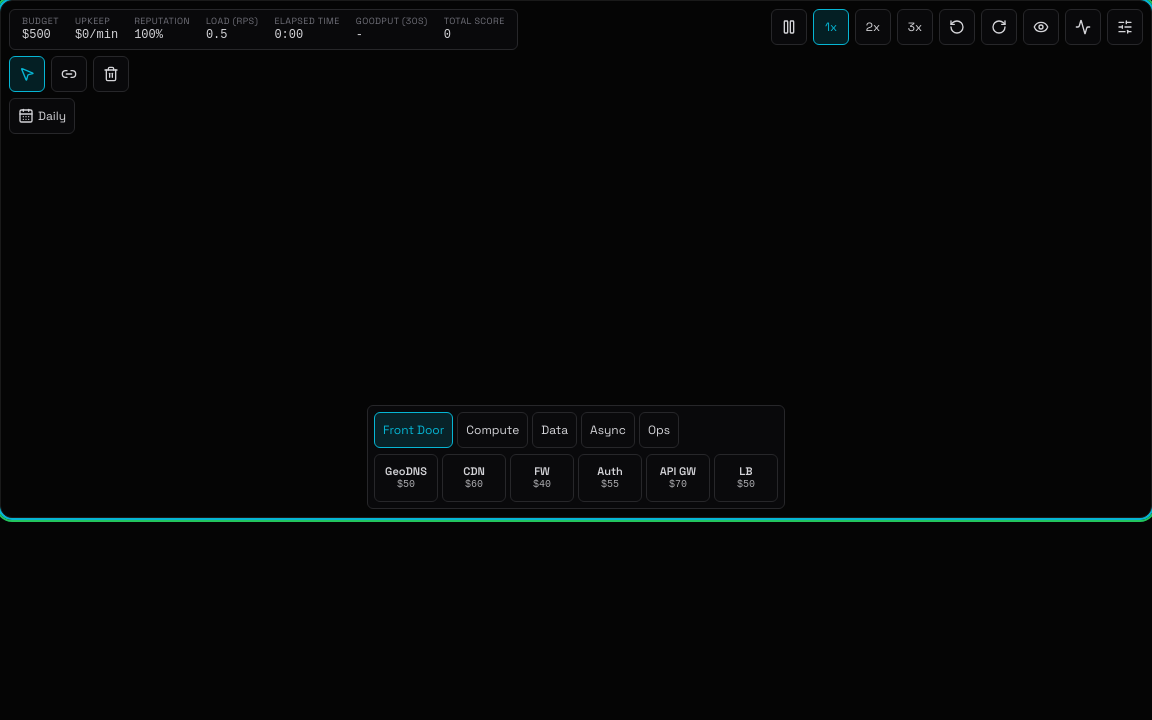
it: Sandbox › ends only when retired, shows no score and no device best, and records nothing
The image size is (1152, 720).
Click the button named "Settings" at (1125, 27), box [1107, 9, 1143, 45]
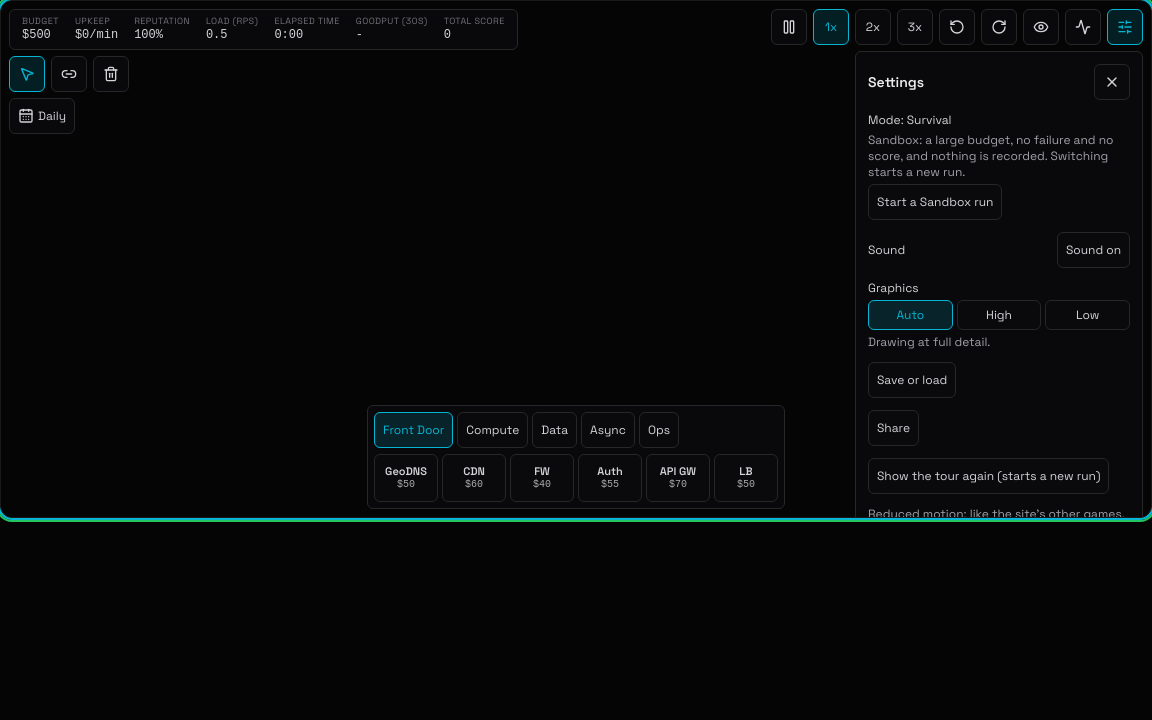
Click the button "Start a Sandbox run" at (935, 202), box [868, 184, 1002, 220]
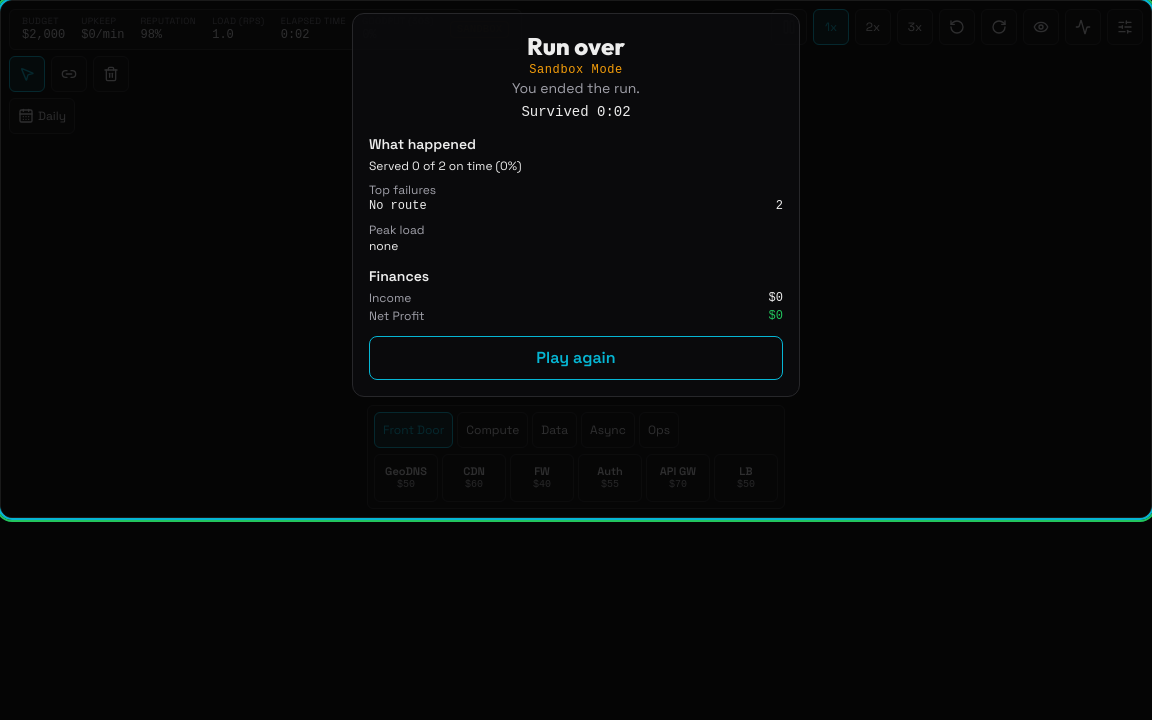
Expected: the dialog "Run over" shows "Sandbox Mode", [529, 63, 623, 77]
